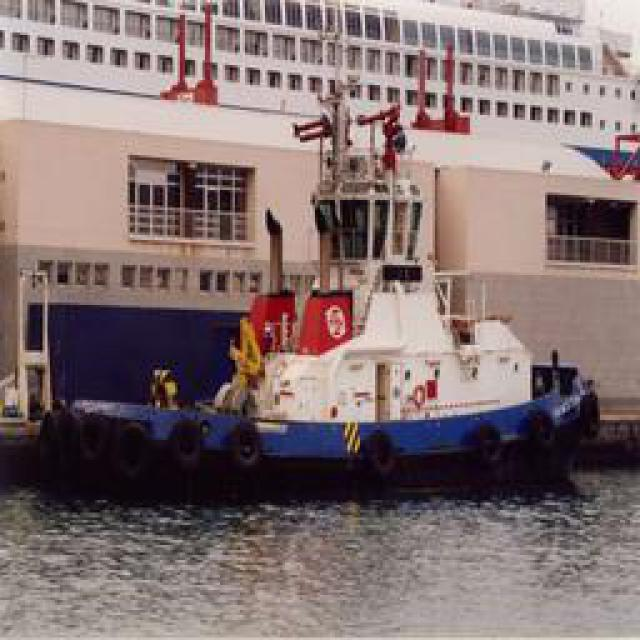Ship: (55, 120, 588, 493)
